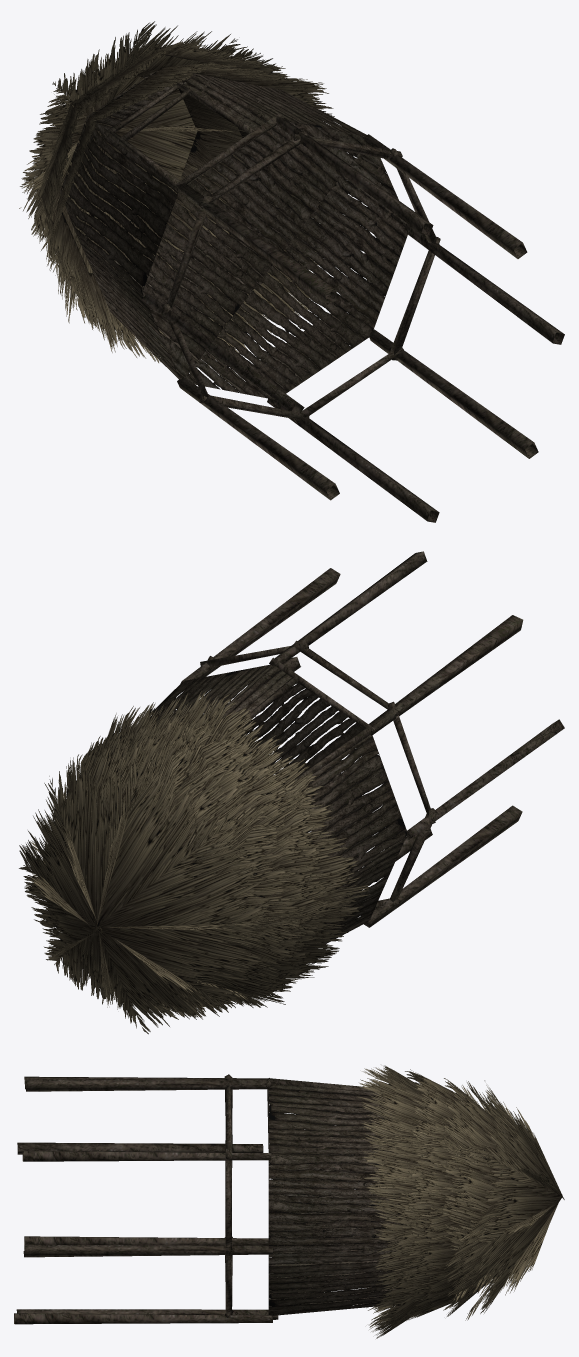
File: MEP_Shack_05_LOD_01.fbx
3 views of the same model, one above another, from view 1: azimuth 30°, elevation 25°; view 2: azimuth 150°, elevation 25°; view 3: azimuth 270°, elevation 25° (orthographic). The views are drawn at different scales.
Visible parts, largest first — view 1: MEP_Shack_05_LOD_01; view 2: MEP_Shack_05_LOD_01; view 3: MEP_Shack_05_LOD_01.
Boxes of the visible parts, bbox=[...] form: MEP_Shack_05_LOD_01: bbox=[19, 21, 564, 522]; MEP_Shack_05_LOD_01: bbox=[19, 551, 564, 1034]; MEP_Shack_05_LOD_01: bbox=[14, 1065, 564, 1338].
Size of the model in its own units: 6.56 by 6.43 by 12.57.
